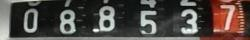digits: (97, 5, 115, 31), (58, 9, 76, 34), (138, 9, 156, 34), (180, 9, 198, 33), (220, 4, 235, 30), (22, 8, 38, 32)
